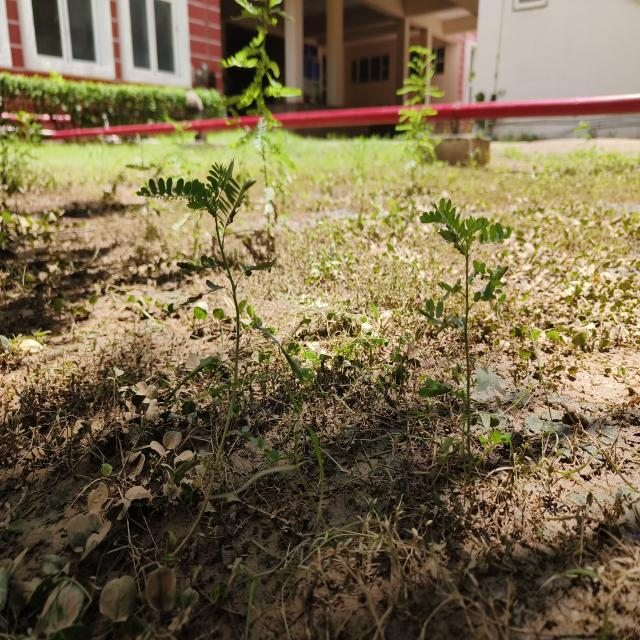weed: (140, 164, 251, 448), (423, 205, 517, 469)
